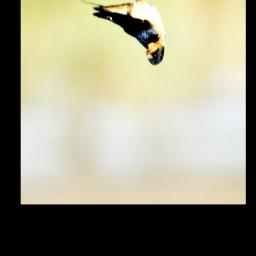Swallow: (79, 0, 166, 67)
